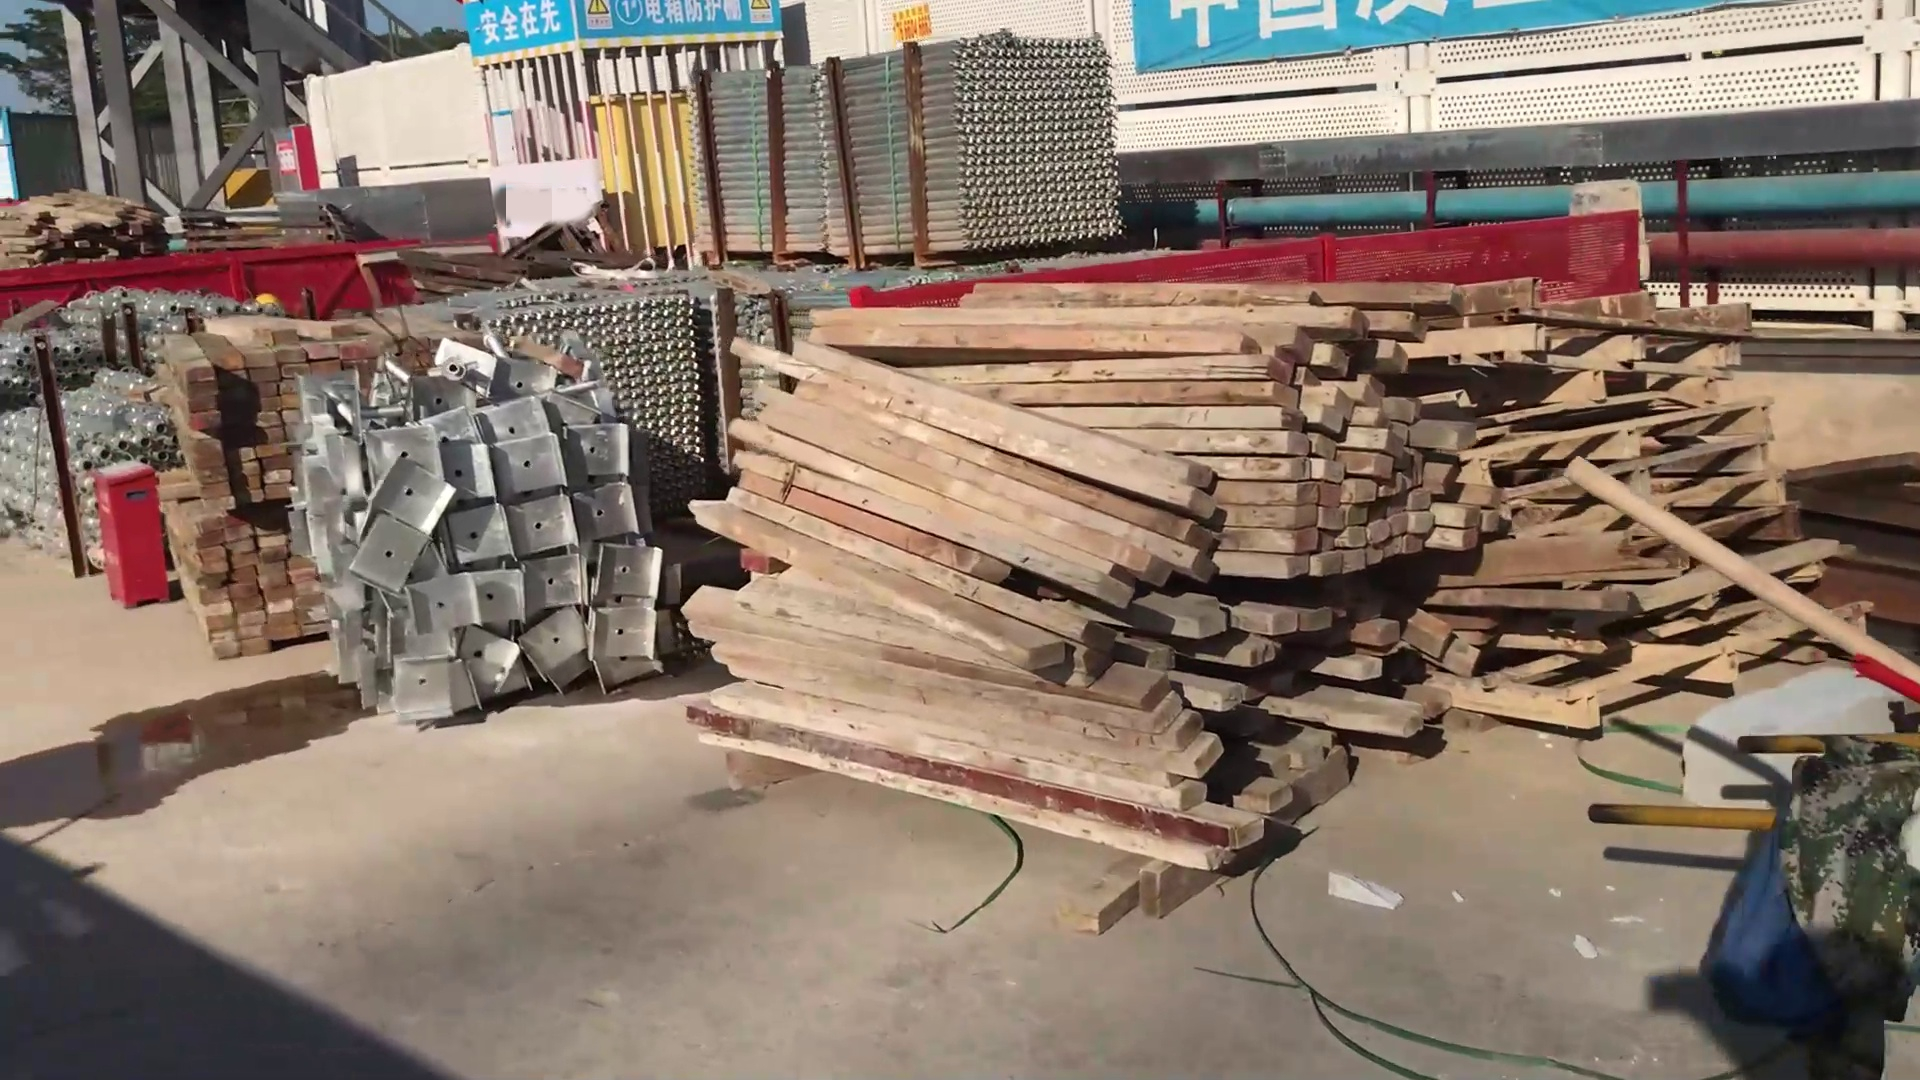fence: (1204, 214, 1655, 291)
scaffold: (694, 20, 1124, 243), (9, 334, 152, 566), (529, 305, 715, 434)
slogan: (475, 3, 574, 65)
wood: (705, 289, 1425, 887), (146, 316, 342, 650), (15, 196, 161, 249)
